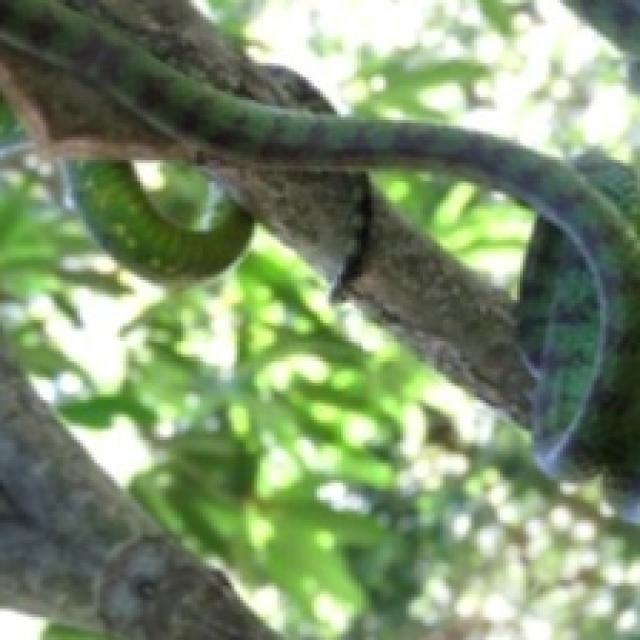philippine pitviper: (0, 0, 637, 477), (69, 162, 254, 283)
